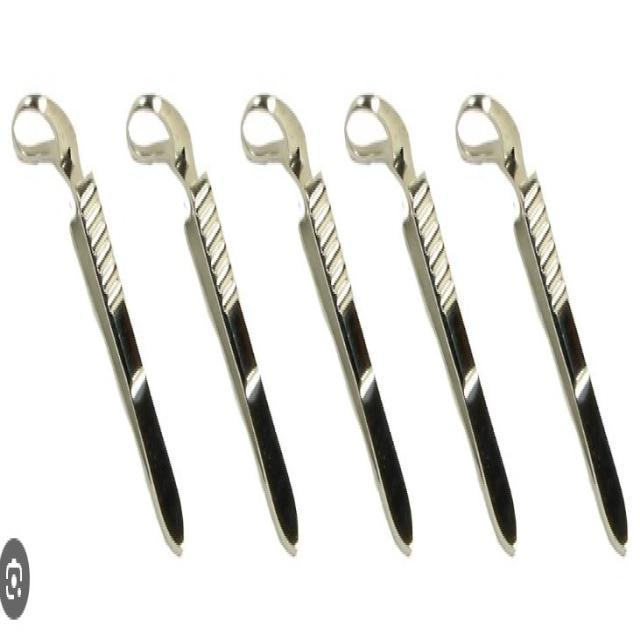Jones Towel Clamp: (236, 95, 438, 555), (6, 77, 187, 563), (120, 68, 300, 556), (343, 80, 521, 563), (454, 86, 634, 554)
